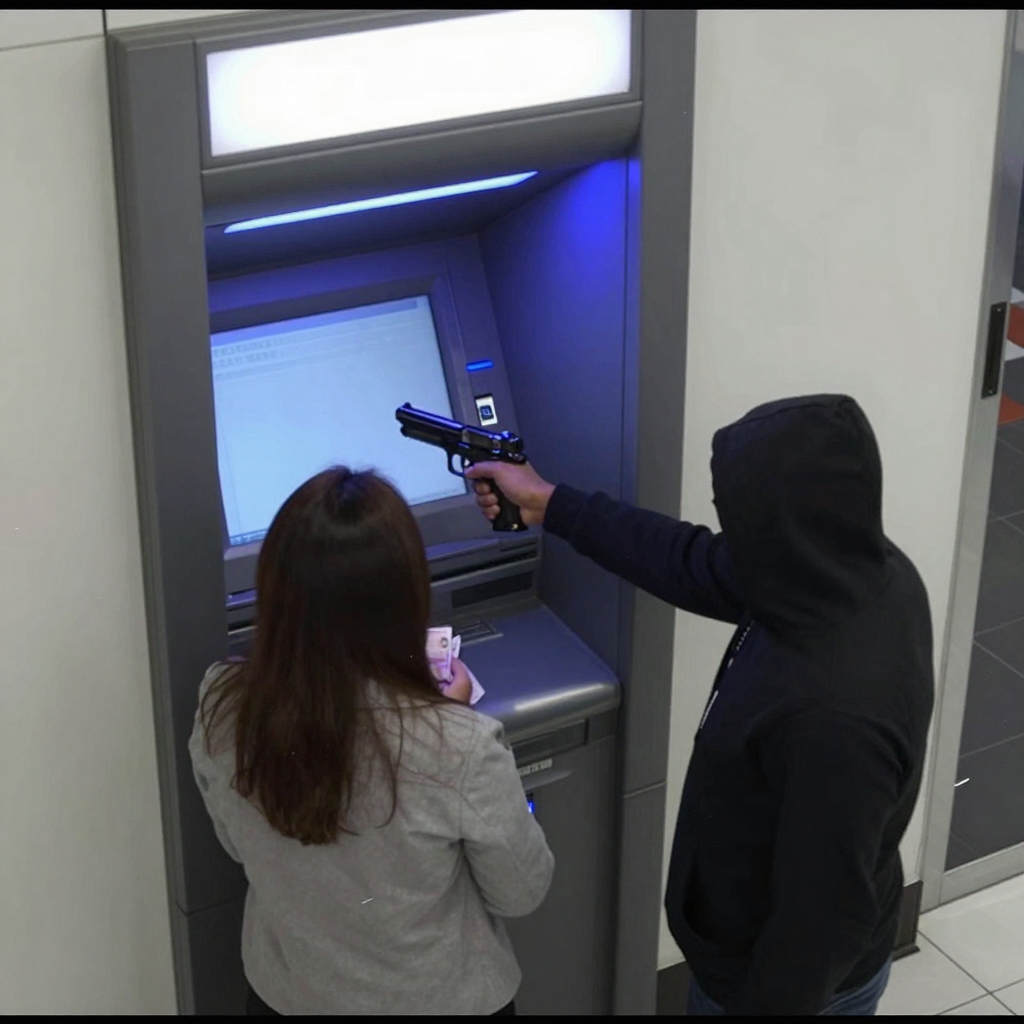Robbery: (463, 392, 936, 1017), (187, 464, 556, 1017)
Shooting: (399, 398, 530, 528)
